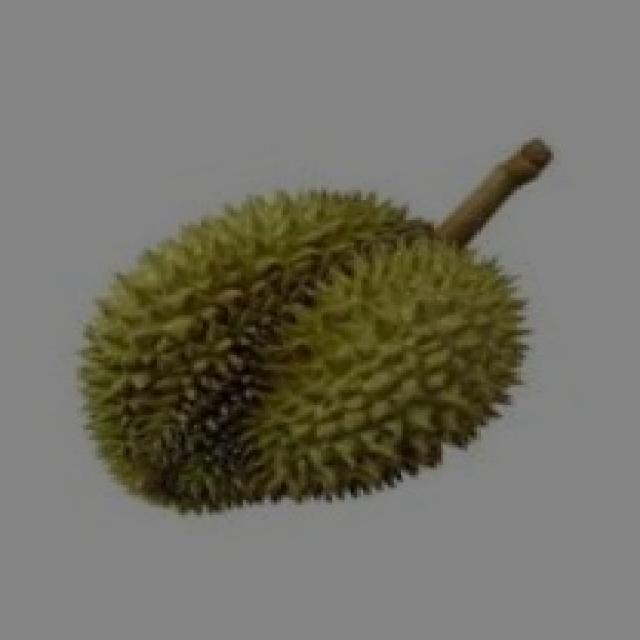fruit: (33, 153, 384, 555)
